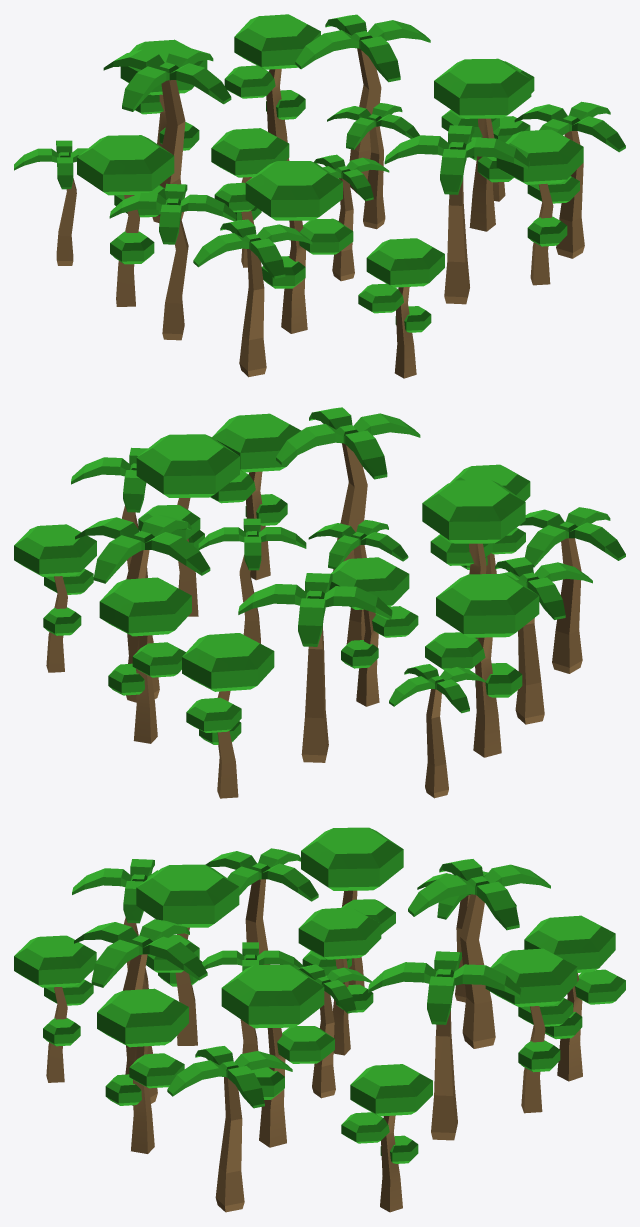
File: nature_JungleHill.fbx
3 views of the same model, one above another, from view 1: azimuth 30°, elevation 25°; view 2: azimuth 150°, elevation 25°; view 3: azimuth 270°, elevation 25° (orthographic). The views are drawn at different scales.
Parts seen in each view (by area): view 1: Jungle; view 2: Jungle; view 3: Jungle.
Part boxes in pixels (x1,y1,x2,y2): Jungle: (14, 14, 625, 378); Jungle: (14, 407, 625, 798); Jungle: (14, 827, 625, 1212).
Size of the model in its own units: 183 by 66.25 by 189.
